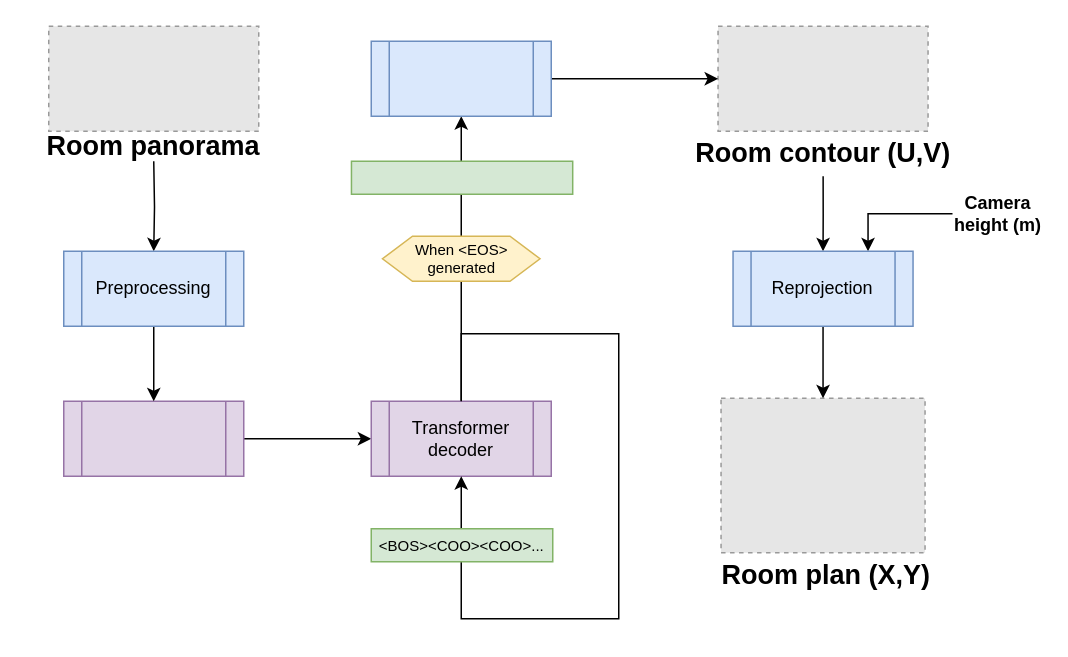
Some shapes in this 1068 by 657 pixel diagram are drawn without their labels. Grey dashed boxes stand in for pictures. Each missing label, with the centre of its shape:
<BOS><COO><COO>...<EOS>: [461,177]
Sequence parsing: [460,78]
Swin Image encoder: [153,438]
